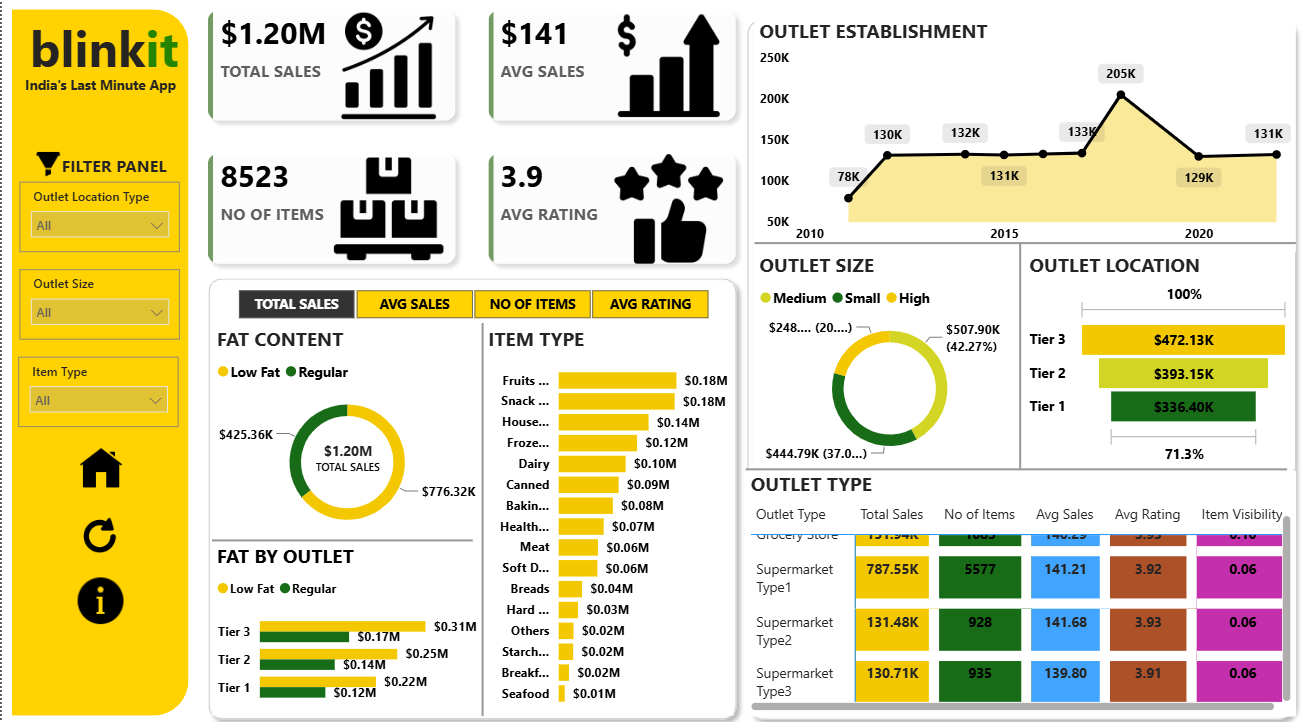

The dashboard page shown, as its layout file describes it:
{"tool":"powerbi","page":{"name":"Page 1","canvas":[1280,720],"ordinal":0},"visuals":[{"type":"shape","box":[10.1,15.8,172.8,691.2],"z":0},{"type":"textbox","box":[15.8,15.8,168.5,77.8],"z":1000},{"type":"textbox","box":[8.6,76.3,175.7,33.1],"z":2000},{"type":"cardVisual","fields":{"Data":["Table1.TOTAL SALES","Table1.AVG SALES","Table1.NO OF ITEMS","Table1.AVG RATING"]},"box":[184.3,0,551.5,283.7],"z":3000},{"type":"shape","box":[193,270.7,534.2,449.3],"z":4000},{"type":"slicer","fields":{"Values":["Matrix.Matrix"]},"box":[205.9,283.7,509.8,41.8],"z":5000},{"type":"donutChart","title":"FAT CONTENT","fields":{"Category":["Table1.Item Fat Content"],"Y":["Table1.TOTAL SALES"]},"box":[205.9,325.4,265,213.1],"z":6000},{"type":"clusteredBarChart","title":"ITEM TYPE","fields":{"Category":["Table1.Item Type"],"Y":["Table1.TOTAL SALES"]},"box":[470.9,325.4,244.8,381.6],"z":7000},{"type":"clusteredBarChart","title":"FAT BY OUTLET","fields":{"Category":["Table1.Outlet Location Type"],"Series":["Table1.Item Fat Content"],"Y":["Table1.TOTAL SALES"]},"box":[205.9,538.6,265,168.5],"z":8000},{"type":"cardVisual","fields":{"Data":["Table1.TOTAL SALES"]},"box":[298.1,432,80.6,46.1],"z":9000},{"type":"shape","box":[720,15.8,553,704.2],"z":10000},{"type":"lineChart","title":"OUTLET ESTABLISHMENT","fields":{"Category":["Table1.Outlet Establishment Year"],"Y":["Sum(Table1.Sales)"]},"box":[735.8,24.5,529.9,229],"z":11000},{"type":"donutChart","title":"OUTLET SIZE","fields":{"Category":["Table1.Outlet Size"],"Y":["Table1.TOTAL SALES"]},"box":[735.8,253.4,265,213.1],"z":12000},{"type":"funnel","title":"OUTLET LOCATION","fields":{"Category":["Table1.Outlet Location Type"],"Y":["Table1.TOTAL SALES"]},"box":[1000.8,253.4,265,213.1],"z":13000},{"type":"pivotTable","title":"OUTLET TYPE","fields":{"Rows":["Table1.Outlet Type"],"Values":["Sum(Table1.Sales)","CountNonNull(Table1.Item Identifier)","Avg(Table1.Sales)","Avg(Table1.Rating)","Avg(Table1.Item Visibility)"]},"box":[727.2,466.6,538.6,240.5],"z":14000},{"type":"shape","box":[735.8,236.2,529.9,17.3],"z":15000},{"type":"shape","box":[727.2,457.9,529.9,17.3],"z":16000},{"type":"shape","box":[205.9,531.4,254.9,7.2],"z":17000},{"type":"shape","box":[462.2,322.6,15.8,384.5],"z":18000},{"type":"shape","box":[992.2,244.8,8.6,221.8],"z":19000},{"type":"slicer","fields":{"Values":["Table1.Outlet Location Type"]},"box":[17.3,184.3,157,69.1],"z":20000},{"type":"slicer","fields":{"Values":["Table1.Outlet Size"]},"box":[17.3,270.7,157,69.1],"z":21000},{"type":"slicer","fields":{"Values":["Table1.Item Type"]},"box":[15.8,355.7,157,69.1],"z":22000},{"type":"textbox","box":[46.1,152.6,126.7,31.7],"z":23000},{"type":"image","box":[24.5,148.3,41.8,38.9],"z":24000},{"type":"image","box":[70.6,439.2,51.8,53.3],"z":25000},{"type":"image","box":[64.8,502.6,61.9,57.6],"z":26000},{"type":"image","box":[64.8,564.5,63.4,59],"z":27000}]}

Visuals, with their boxes in screenshot pixels (x1, y1, x2, y2), scaled from the page's 1280x720 canvas onto the 1306x722 screenshot:
shape: bbox=(10, 16, 187, 709)
textbox: bbox=(16, 16, 188, 94)
textbox: bbox=(9, 77, 188, 110)
cardVisual - Table1.TOTAL SALES x Table1.AVG SALES: bbox=(188, 0, 751, 284)
shape: bbox=(197, 271, 742, 721)
slicer - Matrix.Matrix: bbox=(210, 284, 730, 326)
"FAT CONTENT" donutChart: bbox=(210, 326, 480, 540)
"ITEM TYPE" clusteredBarChart: bbox=(480, 326, 730, 709)
"FAT BY OUTLET" clusteredBarChart: bbox=(210, 540, 480, 709)
cardVisual - Table1.TOTAL SALES: bbox=(304, 433, 386, 479)
shape: bbox=(735, 16, 1299, 721)
"OUTLET ESTABLISHMENT" lineChart: bbox=(751, 25, 1291, 254)
"OUTLET SIZE" donutChart: bbox=(751, 254, 1021, 468)
"OUTLET LOCATION" funnel: bbox=(1021, 254, 1292, 468)
"OUTLET TYPE" pivotTable: bbox=(742, 468, 1292, 709)
shape: bbox=(751, 237, 1291, 254)
shape: bbox=(742, 459, 1283, 477)
shape: bbox=(210, 533, 470, 540)
shape: bbox=(472, 323, 488, 709)
shape: bbox=(1012, 245, 1021, 468)
slicer - Table1.Outlet Location Type: bbox=(18, 185, 178, 254)
slicer - Table1.Outlet Size: bbox=(18, 271, 178, 341)
slicer - Table1.Item Type: bbox=(16, 357, 176, 426)
textbox: bbox=(47, 153, 176, 185)
image: bbox=(25, 149, 68, 188)
image: bbox=(72, 440, 125, 494)
image: bbox=(66, 504, 129, 562)
image: bbox=(66, 566, 131, 625)
